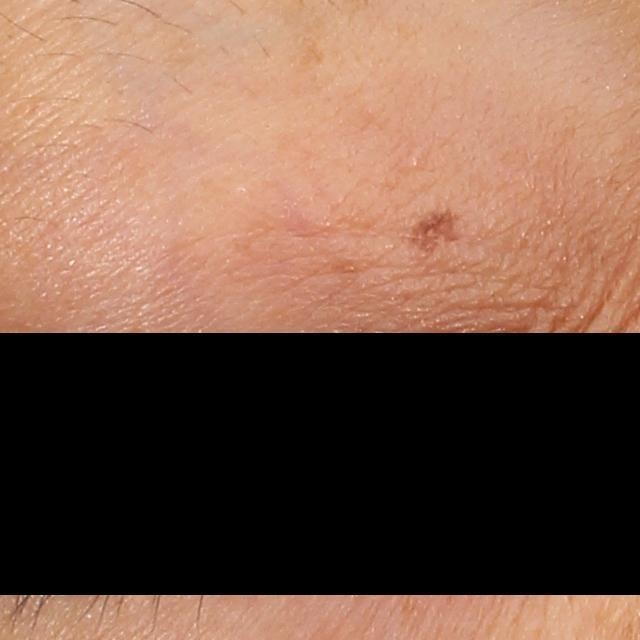comedo: (407, 153, 425, 173)
melasma: (408, 202, 461, 261)
